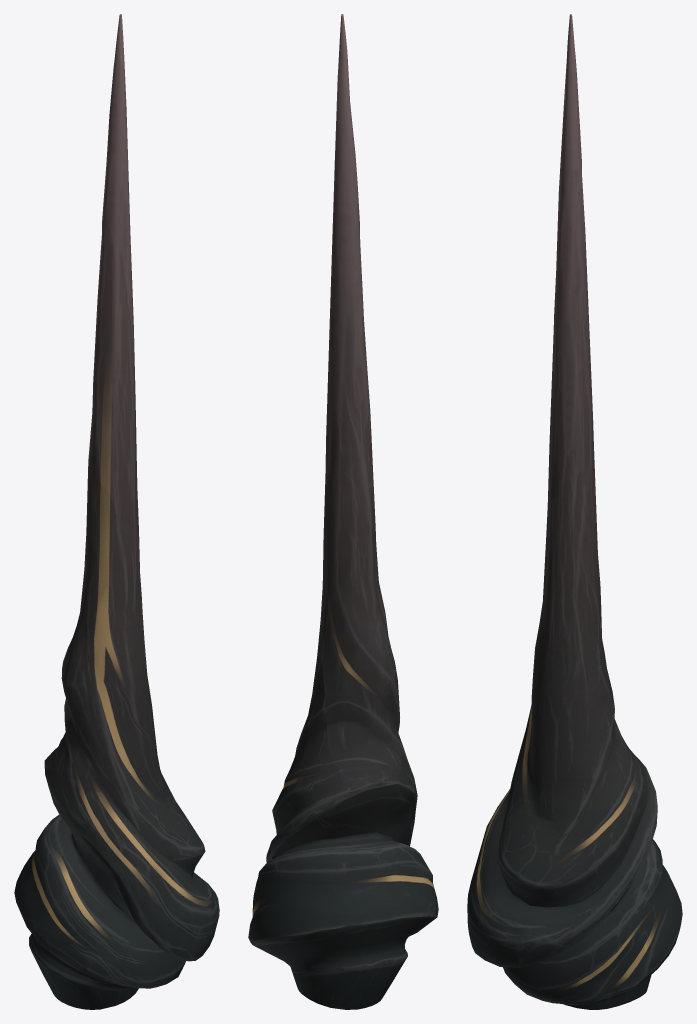
Rendered from small_spike_01_a.glb.
The picture shows the model from 3 angles, left to right: view 1: azimuth 30°, elevation 25°; view 2: azimuth 150°, elevation 25°; view 3: azimuth 270°, elevation 25°; orthographic projection. The views are drawn at different scales.
Visible parts, largest first — view 1: SM_KC_Small_SPIKES_01_A; view 2: SM_KC_Small_SPIKES_01_A; view 3: SM_KC_Small_SPIKES_01_A.
Part boxes in pixels (x1,y1,x2,y2): SM_KC_Small_SPIKES_01_A: [14, 14, 219, 1009]; SM_KC_Small_SPIKES_01_A: [248, 14, 438, 1009]; SM_KC_Small_SPIKES_01_A: [467, 14, 682, 1009].
Bounding box in the file's own units: 0.5596 × 3.14 × 0.6172.
Materials: 1 (1 with a texture image).
